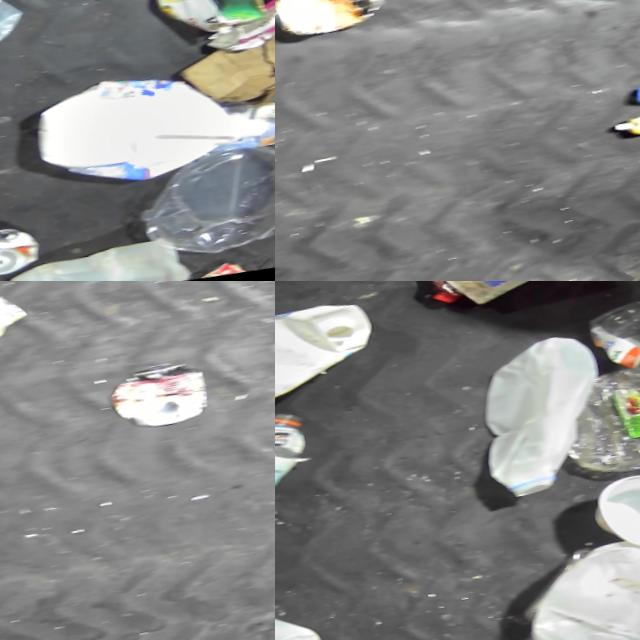can: (108, 352, 220, 435), (418, 281, 572, 319), (275, 0, 398, 46), (145, 246, 275, 281)
milk_jug: (16, 44, 275, 201), (463, 323, 629, 505), (520, 519, 640, 640), (275, 290, 384, 411), (275, 587, 344, 640)
plastic_bottle: (560, 337, 640, 488), (627, 55, 640, 117)
